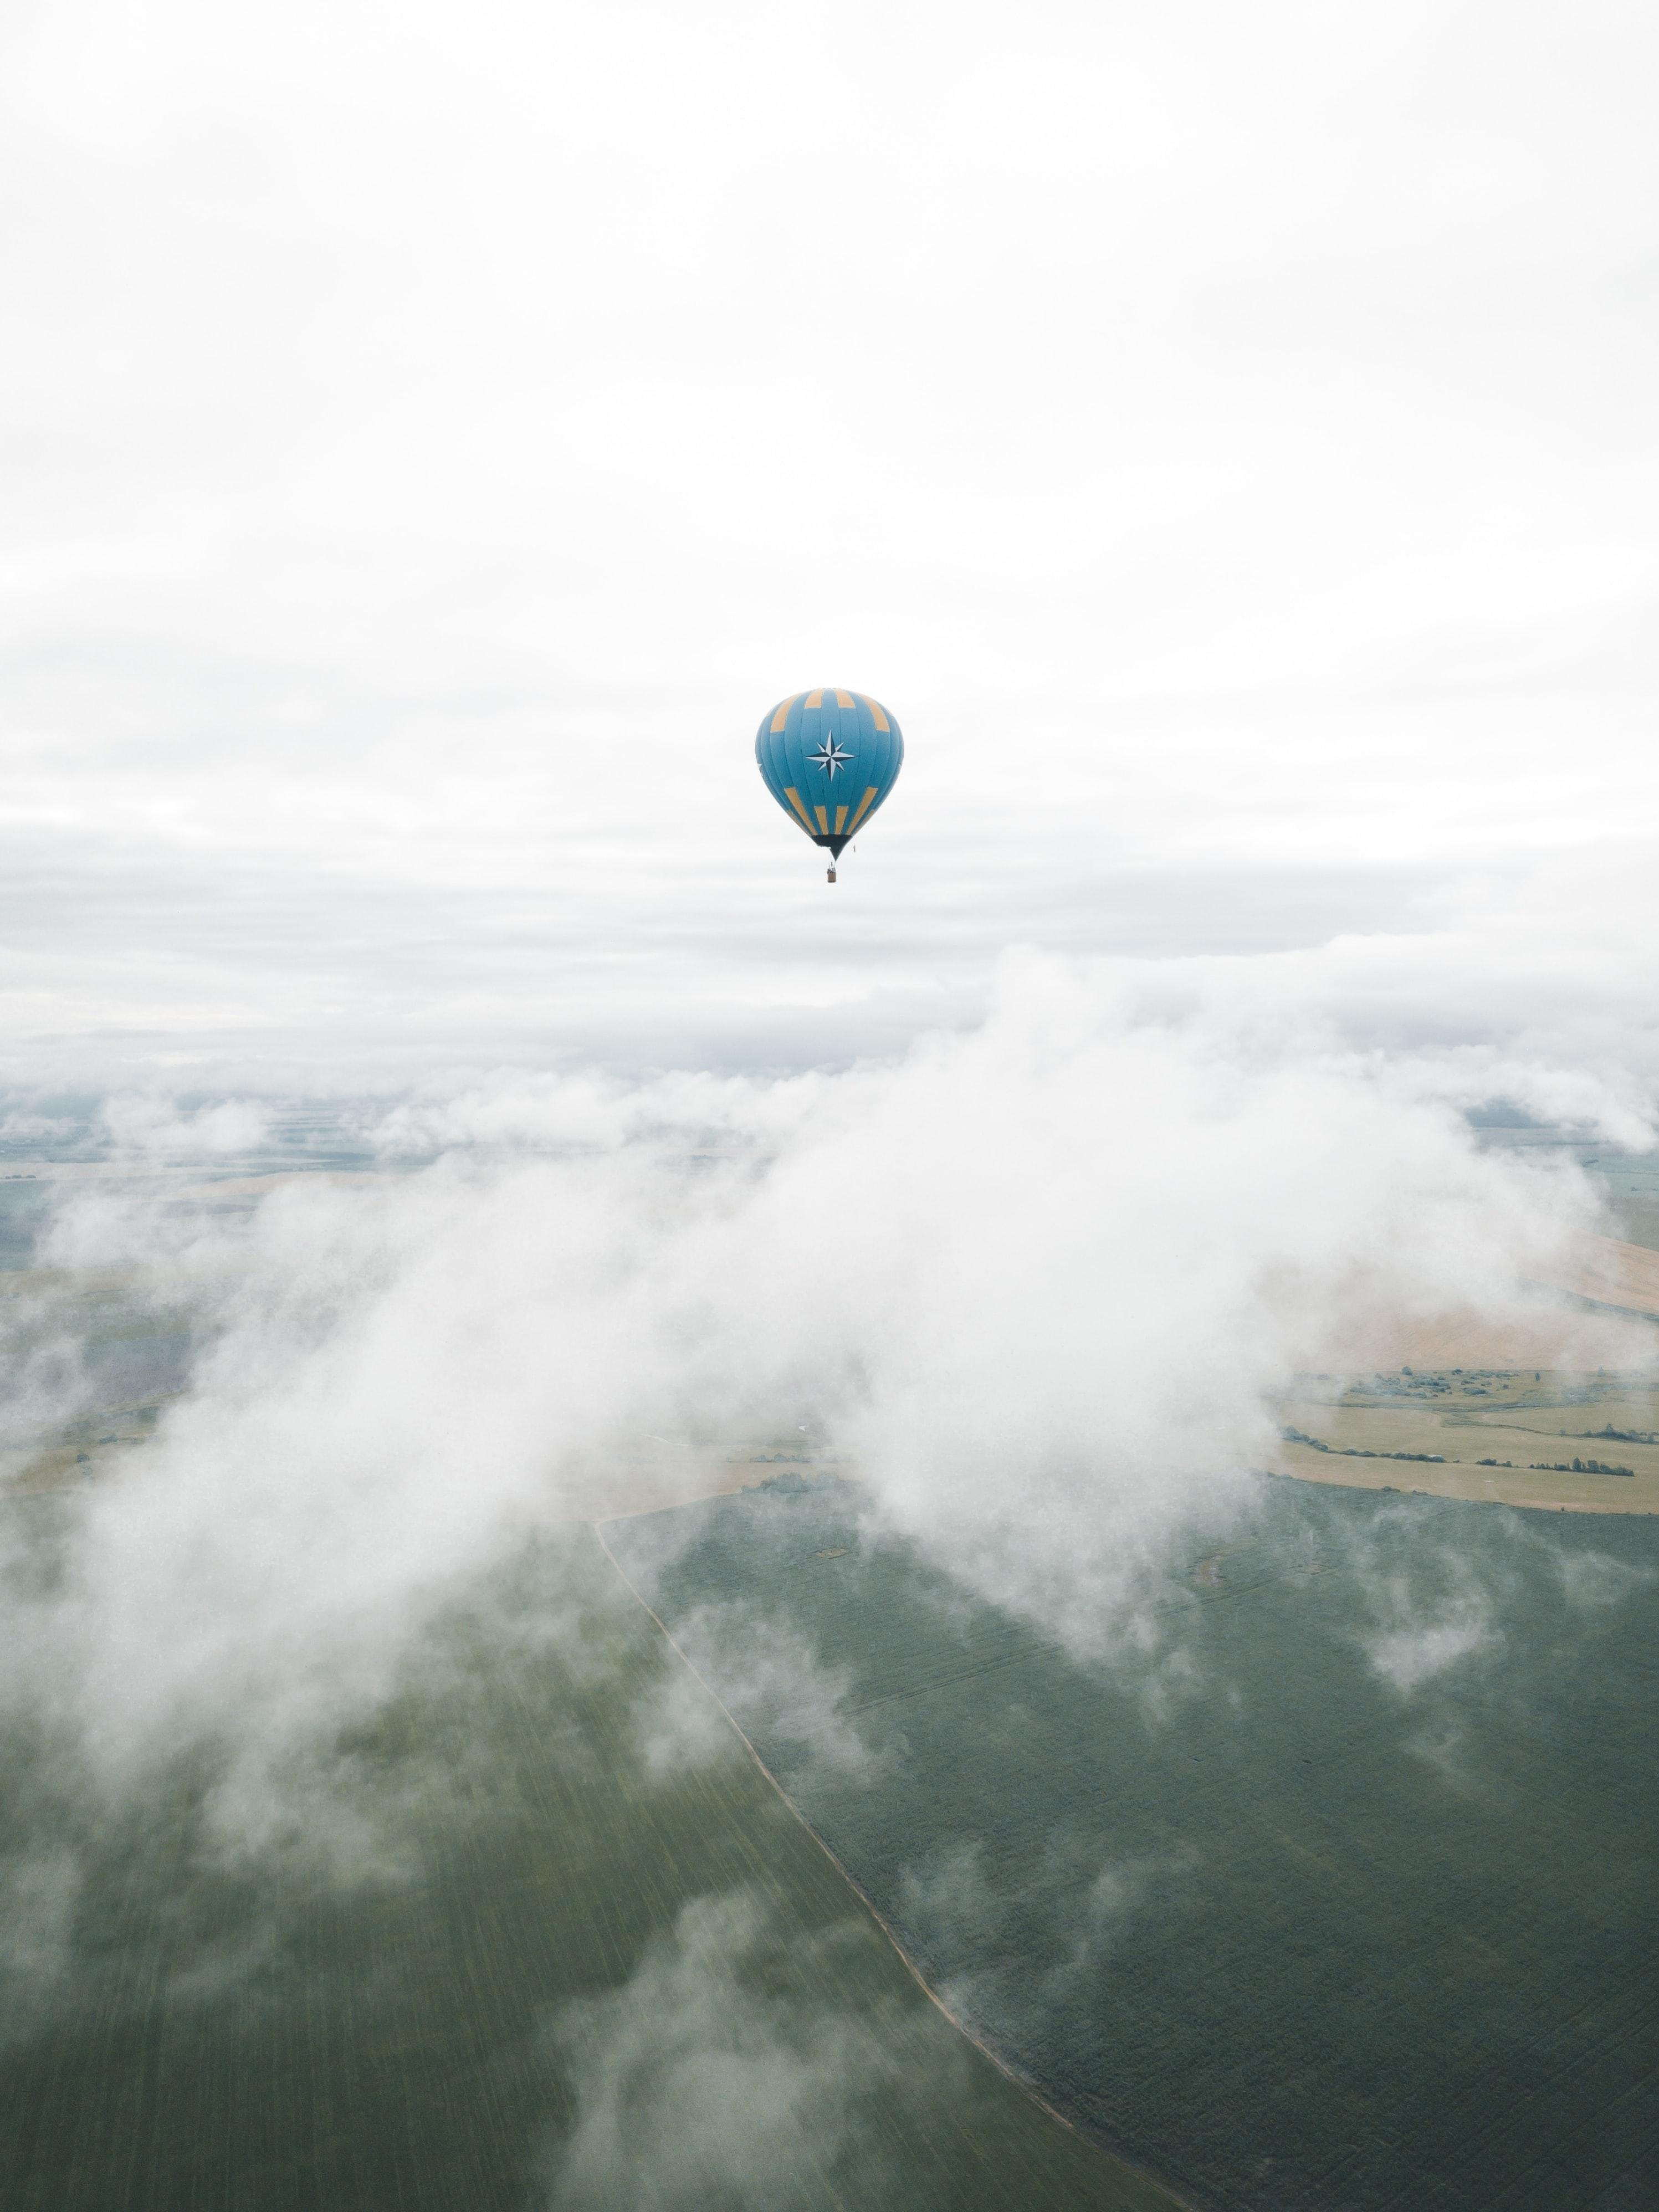hot air ballon: (753, 686, 903, 885)
